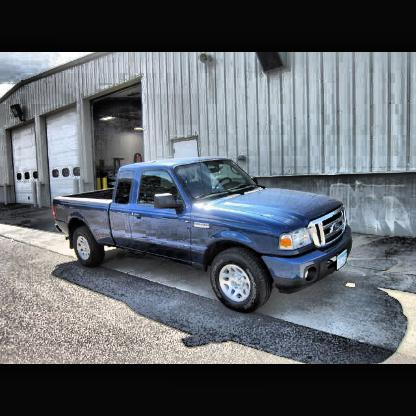Ford Ranger SuperCab 2011: (53, 160, 353, 316)
